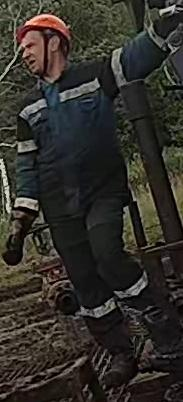gloves: (1, 197, 40, 266)
helmet: (15, 13, 72, 53)
vest: (17, 58, 128, 220)
